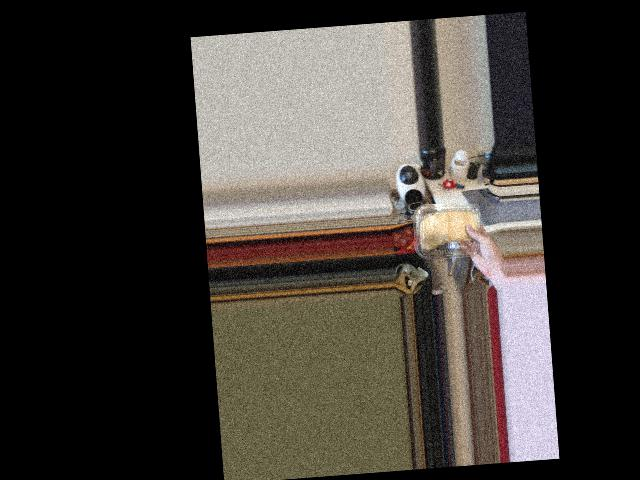cheese: (416, 195, 481, 263)
